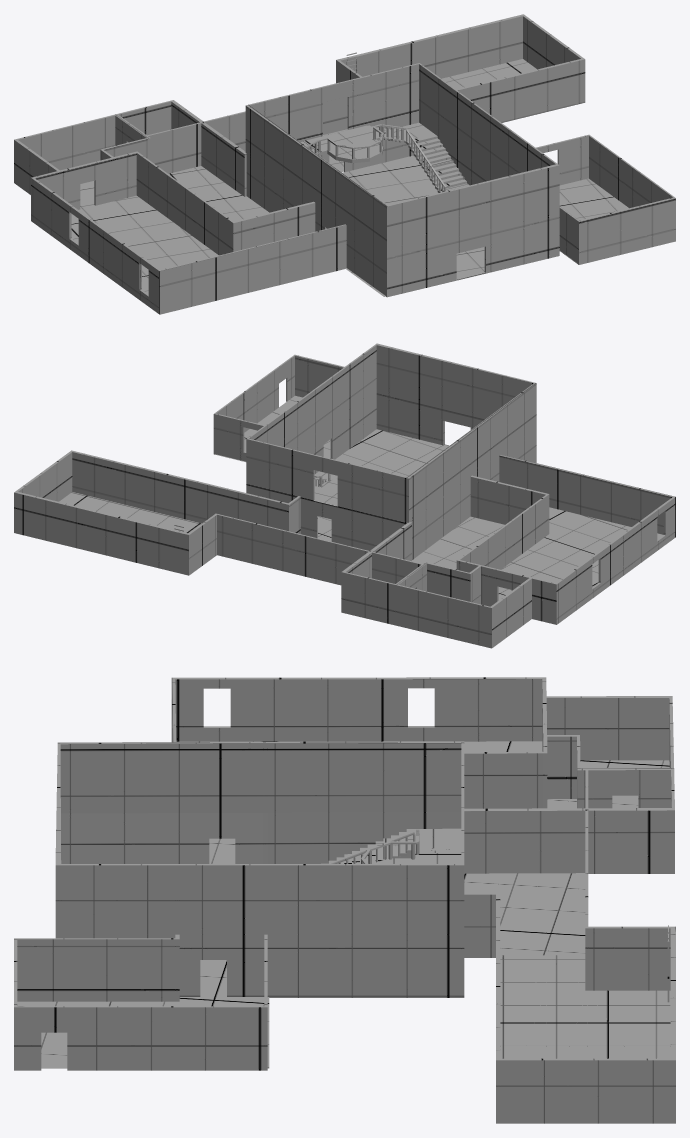
The model's file is lvl1.fbx.
3 renders of one model, top to bottom at view 1: azimuth 30°, elevation 25°; view 2: azimuth 150°, elevation 25°; view 3: azimuth 270°, elevation 25°, orthographic. The views are drawn at different scales.
Parts seen in each view (by area): view 1: lvl1; view 2: lvl1; view 3: lvl1.
Part boxes in pixels (x1,y1,x2,y2): lvl1: [14, 14, 675, 314]; lvl1: [14, 343, 675, 648]; lvl1: [14, 677, 675, 1123].
Size of the model in its own units: 51.42 by 8.36 by 37.57.
